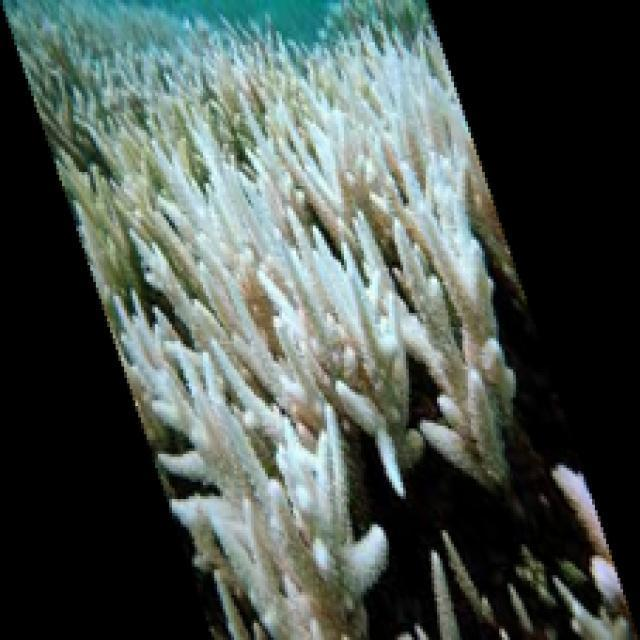Bleached: (3, 7, 522, 502), (121, 308, 394, 640), (551, 449, 640, 640), (434, 552, 461, 640)
